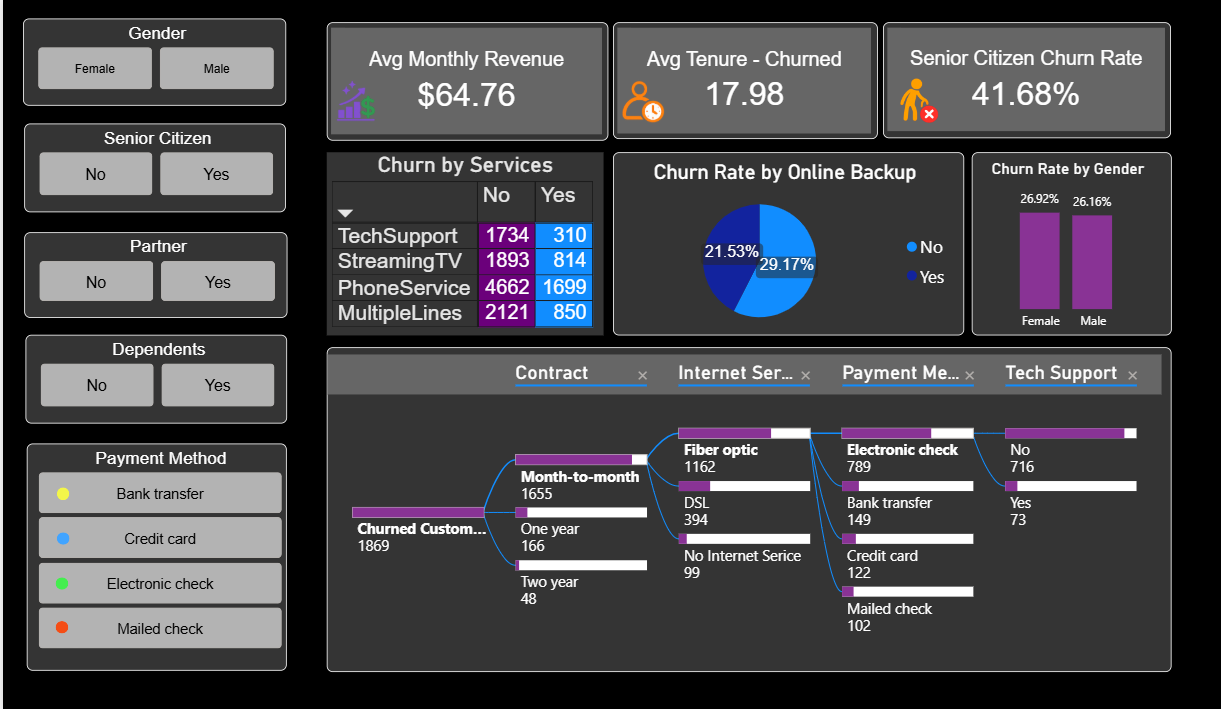

This screenshot's page, from the dashboard's own definition file:
{"tool":"powerbi","page":{"name":"Page 2","canvas":[1280,720],"ordinal":1},"visuals":[{"type":"cardVisual","title":"Total Customers","fields":{"Data":["All_measures.AvgTenureChurned"]},"box":[610,25.9,264.7,117.1],"z":0,"group":"g7"},{"type":"pivotTable","title":"Churn by Services","fields":{"Rows":["customers_unpivot.Attribute"],"Columns":["Customer Churn.Churn"],"Values":["CountNonNull(Customer Churn.customerID)"]},"box":[324.3,155.7,277.1,182.9],"z":0},{"type":"image","box":[610,83.8,60,43.8],"z":1000,"group":"g7"},{"type":"decompositionTreeVisual","fields":{"Analyze":["All_measures.Churned Customers"],"ExplainBy":["Customer Churn.Contract","Customer Churn.InternetService","Customer Churn.PaymentMethod","Customer Churn.TechSupport"]},"box":[323.8,351.2,845,325],"z":1000},{"type":"advancedSlicerVisual","title":"Gender","fields":{"Values":["Customer Churn.gender"]},"box":[20,22.9,262.9,87.1],"z":2000},{"type":"group","id":"g1","title":"Group 1","box":[323.8,25.9,282.1,118.2],"z":2000,"group":"g7"},{"type":"cardVisual","title":"Total Customers","fields":{"Data":["All_measures.Senior Citizen Churn Rate"]},"box":[880.6,25.9,288.2,115.9],"z":3000,"group":"g8"},{"type":"advancedSlicerVisual","title":"Senior Citizen","fields":{"Values":["Customer Churn.SeniorCitizen"]},"box":[21.4,127.1,261.4,88.6],"z":3000},{"type":"cardVisual","title":"Total Customers","fields":{"Data":["All_measures.Avg Monthly Charges"]},"box":[324.2,25.9,281.8,118.2],"z":4000,"group":"g1"},{"type":"advancedSlicerVisual","title":"Partner","fields":{"Values":["Customer Churn.Partner"]},"box":[21.4,235.7,262.9,85.7],"z":4000},{"type":"image","box":[323.8,83.8,58.8,43.8],"z":4013,"group":"g1"},{"type":"image","box":[893.3,80.9,46.7,46.7],"z":4015,"group":"g8"},{"type":"advancedSlicerVisual","title":"Dependents","fields":{"Values":["Customer Churn.Dependents"]},"box":[22.9,338.6,261.4,88.6],"z":5000},{"type":"group","id":"g2","title":"Group 4","box":[24.3,447.1,260,228.6],"z":6000},{"type":"pieChart","title":"Churn Rate by Online Backup","fields":{"Category":["Customer Churn.OnlineBackup"],"Y":["All_measures.Churn Rate"]},"box":[610,155.7,351.4,182.9],"z":7000},{"type":"group","id":"g3","title":"Group 4","box":[53.5,491.5,13,12],"z":8000},{"type":"group","id":"g4","title":"Group 4","box":[53.2,536.8,13.2,12.1],"z":9000},{"type":"group","id":"g5","title":"Group 4","box":[53,580.9,13,11.7],"z":10000},{"type":"advancedSlicerVisual","title":"Payment Method","fields":{"Values":["Customer Churn.PaymentMethod"]},"box":[24.3,447.1,260,227.5],"z":11000,"group":"g2"},{"type":"group","id":"g6","title":"Group 4","box":[52.6,625.2,13.5,11.7],"z":11000},{"type":"clusteredColumnChart","title":"Churn Rate by Gender","fields":{"Category":["Customer Churn.gender"],"Y":["All_measures.Churn Rate"]},"box":[969.3,155.7,200,182.9],"z":12000},{"type":"group","id":"g7","title":"Group 2","box":[323.8,25.9,551,118.2],"z":13000},{"type":"group","id":"g8","title":"Group 3","box":[880.6,25.9,288.2,115.9],"z":14000},{"type":"shape","box":[53.5,491.5,12.7,13.1],"z":14000,"group":"g3"},{"type":"shape","box":[53.2,536.8,12.9,12.5],"z":14000,"group":"g4"},{"type":"shape","box":[53,580.9,12.9,12.5],"z":14000,"group":"g5"},{"type":"shape","box":[52.6,625.2,12.9,12.5],"z":14000,"group":"g6"}]}

Visuals, with their boxes on the page's 1280x720 design canvas (x1, y1, x2, y2). These are canvas units, not pixel positions in the 1221x709 screenshot, which may show the page scaled, cropped or inside an application window:
"Total Customers" cardVisual: {"x1": 610, "y1": 26, "x2": 875, "y2": 143}
"Churn by Services" pivotTable: {"x1": 324, "y1": 156, "x2": 601, "y2": 339}
image: {"x1": 610, "y1": 84, "x2": 670, "y2": 128}
decompositionTreeVisual - All_measures.Churned Customers x Customer Churn.Contract: {"x1": 324, "y1": 351, "x2": 1169, "y2": 676}
"Gender" advancedSlicerVisual: {"x1": 20, "y1": 23, "x2": 283, "y2": 110}
"Group 1" group: {"x1": 324, "y1": 26, "x2": 606, "y2": 144}
"Total Customers" cardVisual: {"x1": 881, "y1": 26, "x2": 1169, "y2": 142}
"Senior Citizen" advancedSlicerVisual: {"x1": 21, "y1": 127, "x2": 283, "y2": 216}
"Total Customers" cardVisual: {"x1": 324, "y1": 26, "x2": 606, "y2": 144}
"Partner" advancedSlicerVisual: {"x1": 21, "y1": 236, "x2": 284, "y2": 321}
image: {"x1": 324, "y1": 84, "x2": 383, "y2": 128}
image: {"x1": 893, "y1": 81, "x2": 940, "y2": 128}
"Dependents" advancedSlicerVisual: {"x1": 23, "y1": 339, "x2": 284, "y2": 427}
"Group 4" group: {"x1": 24, "y1": 447, "x2": 284, "y2": 676}
"Churn Rate by Online Backup" pieChart: {"x1": 610, "y1": 156, "x2": 961, "y2": 339}
"Group 4" group: {"x1": 54, "y1": 492, "x2": 66, "y2": 504}
"Group 4" group: {"x1": 53, "y1": 537, "x2": 66, "y2": 549}
"Group 4" group: {"x1": 53, "y1": 581, "x2": 66, "y2": 593}
"Payment Method" advancedSlicerVisual: {"x1": 24, "y1": 447, "x2": 284, "y2": 675}
"Group 4" group: {"x1": 53, "y1": 625, "x2": 66, "y2": 637}
"Churn Rate by Gender" clusteredColumnChart: {"x1": 969, "y1": 156, "x2": 1169, "y2": 339}
"Group 2" group: {"x1": 324, "y1": 26, "x2": 875, "y2": 144}
"Group 3" group: {"x1": 881, "y1": 26, "x2": 1169, "y2": 142}
shape: {"x1": 54, "y1": 492, "x2": 66, "y2": 505}
shape: {"x1": 53, "y1": 537, "x2": 66, "y2": 549}
shape: {"x1": 53, "y1": 581, "x2": 66, "y2": 593}
shape: {"x1": 53, "y1": 625, "x2": 66, "y2": 638}
